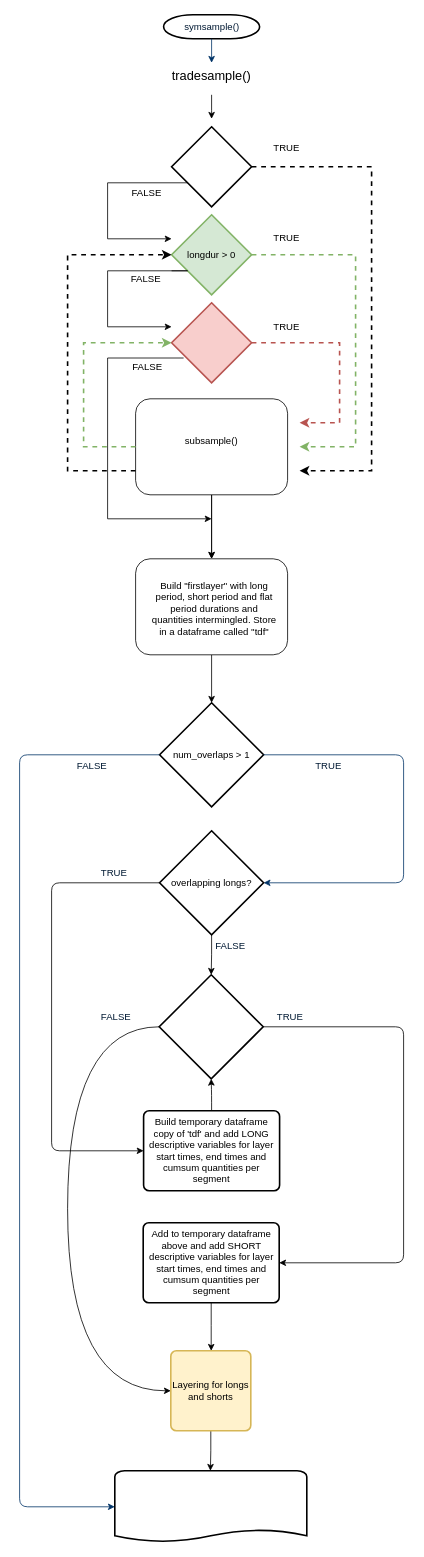
Image size: 424x1557. Some labels were removed from this diagram. The shapes that lost their labels are listed below. From the top down, each one's centre as x and y in pixels, then its label:
[211,166]: flatdur > 0
[211,342]: shortdur > 0
[211,1026]: overlapping shorts?
[210,1506]: build replicate portfolios using blotter portfolio objects
